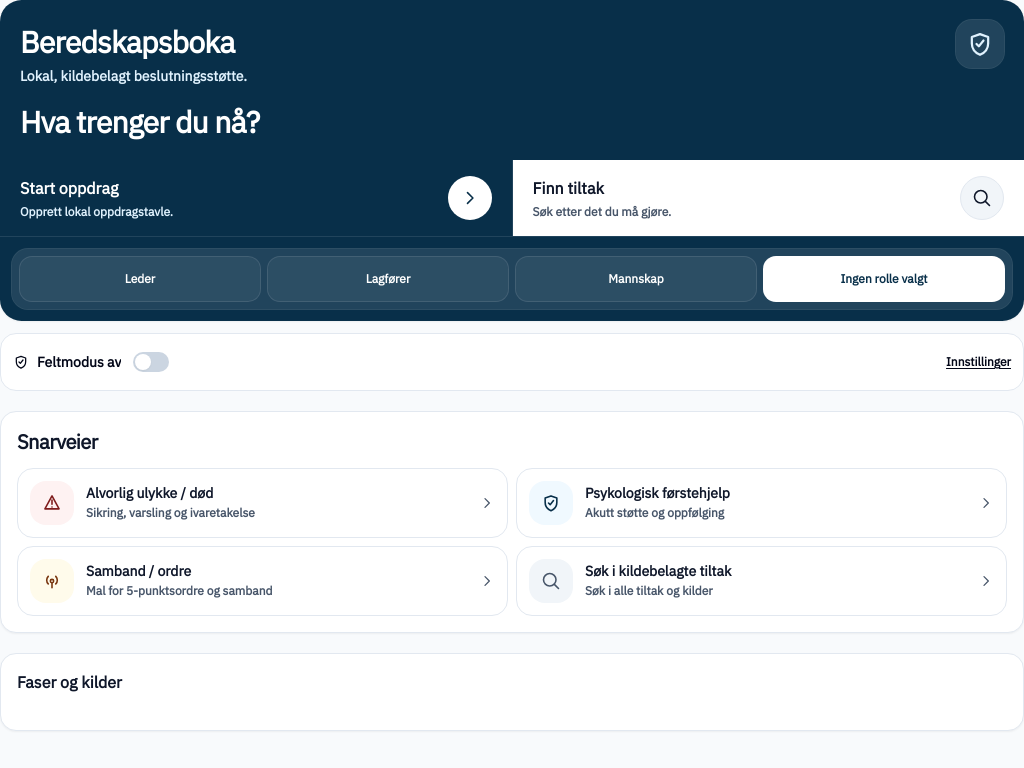
Test: offers a first-viewport role lens control on home and persists through the role provider
Expected: the element named "Rollevisning" is shown, [12, 249, 1012, 309]
What coordinates should you click on to do the following:
click the radio button labelled "Mannskap"
I would click on:
 (636, 279)
Its box is [516, 257, 756, 301].
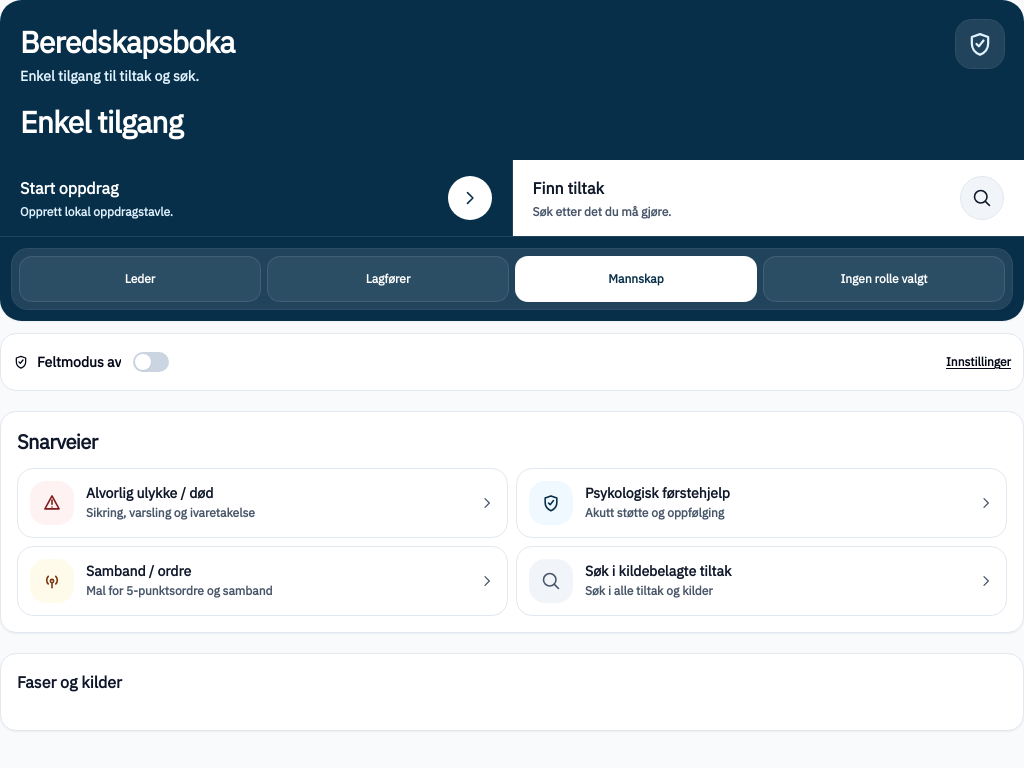
Expected: the heading "Enkel tilgang" is shown, [20, 102, 183, 141]
